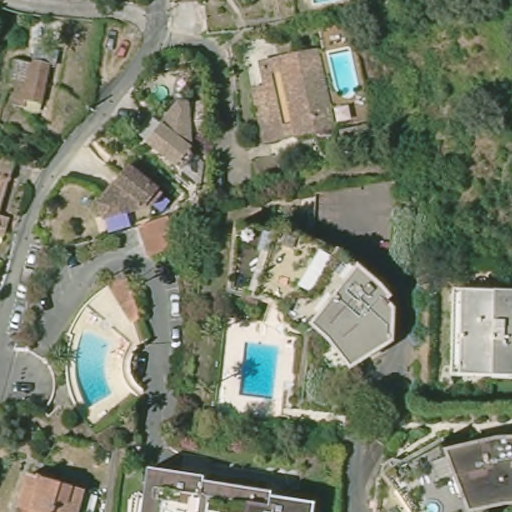pool: (71, 326, 118, 409), (234, 335, 282, 404), (325, 41, 367, 103), (150, 82, 173, 105)
